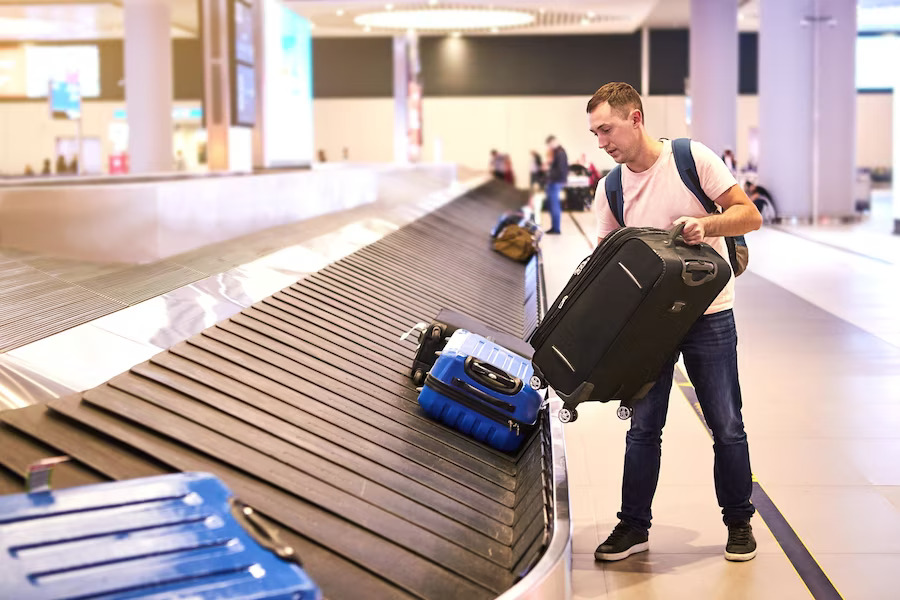baggage: (2, 443, 328, 600), (530, 220, 734, 404), (405, 322, 545, 455)
